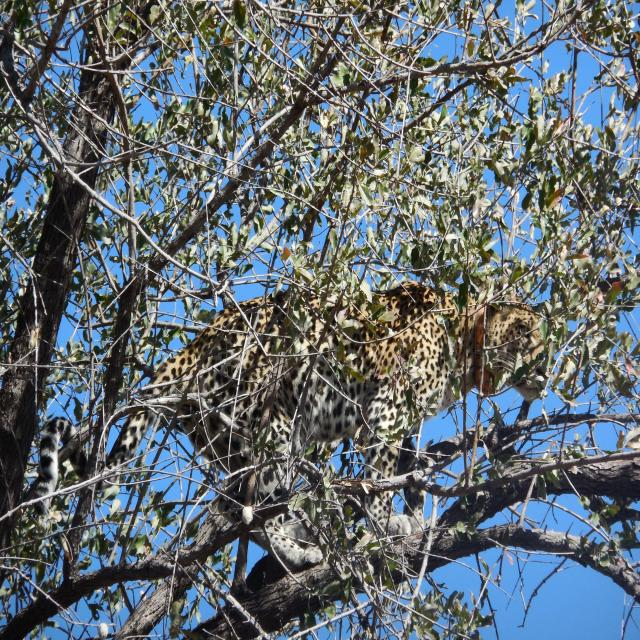Leopard: (49, 256, 558, 568)
